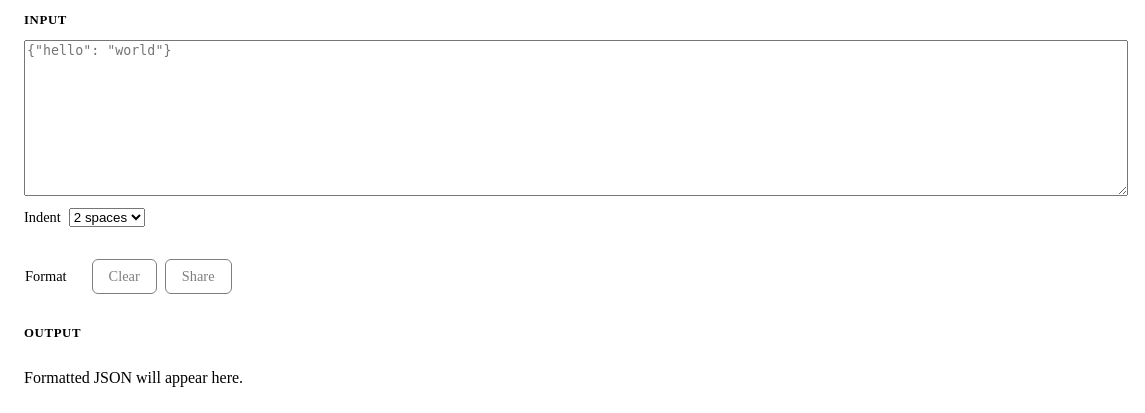
Test: JsonFormatterTool › shows an error for empty input
This screenshot has width=1145, height=413.
Click the button "Format": (46, 276) [8, 259, 84, 294]
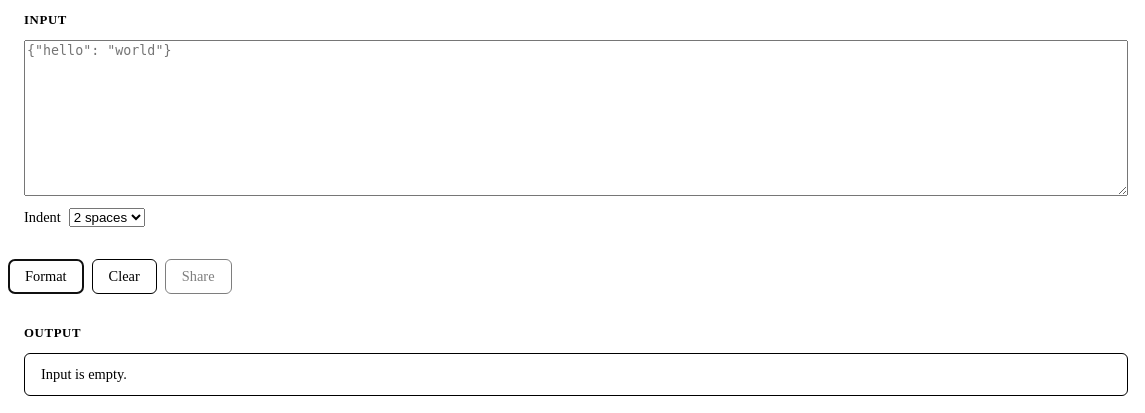
Expected: the message shows "Input is empty", [41, 366, 127, 382]
